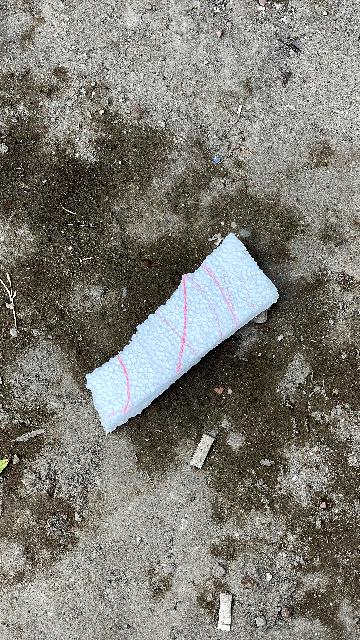cocksheet: (83, 225, 280, 437)
